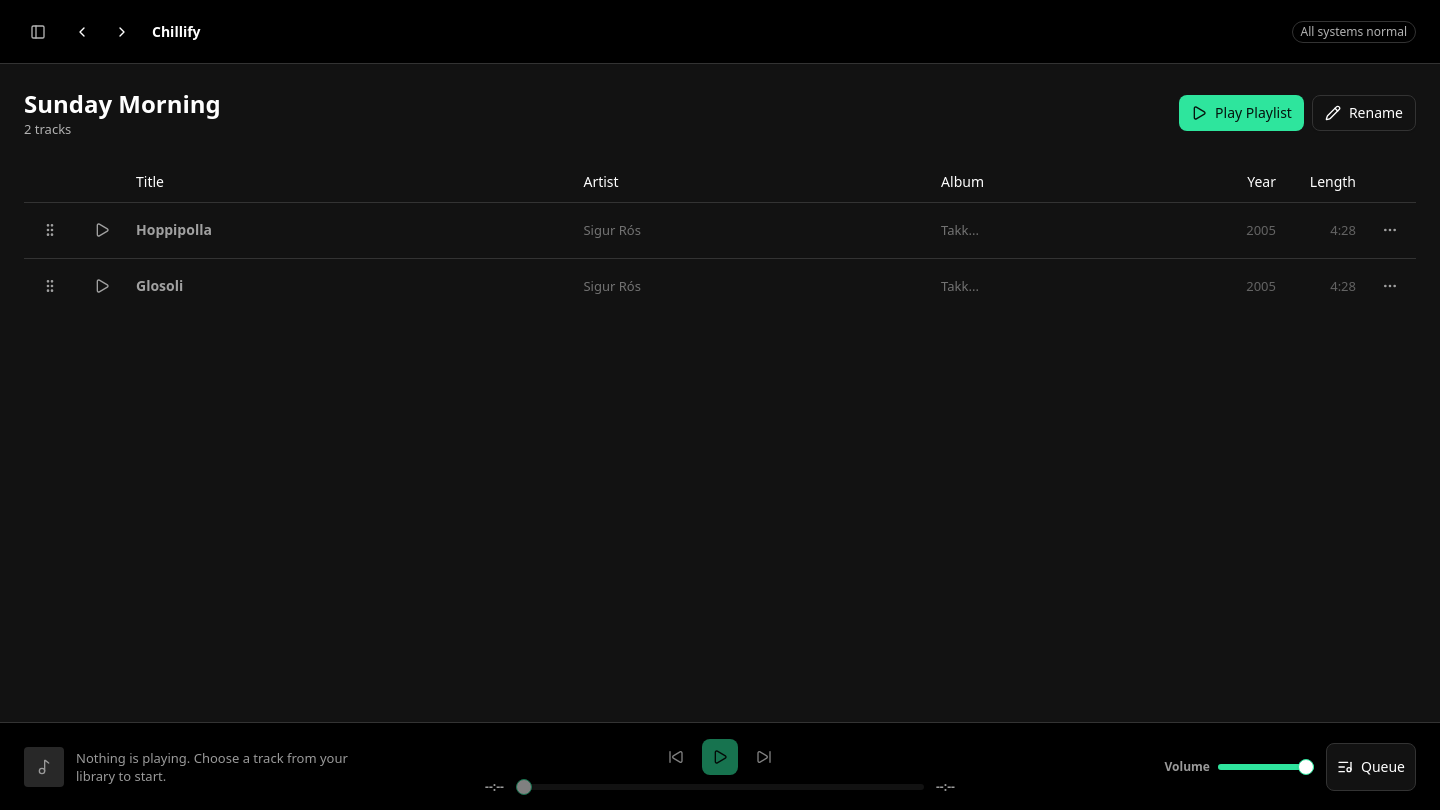
Test case: S10 playlist detail › removes a track under the playlist's revision without deleting the track
This screenshot has width=1440, height=810.
Click the button named "Actions for Glosoli" at (1390, 286), box [1372,268,1408,304]
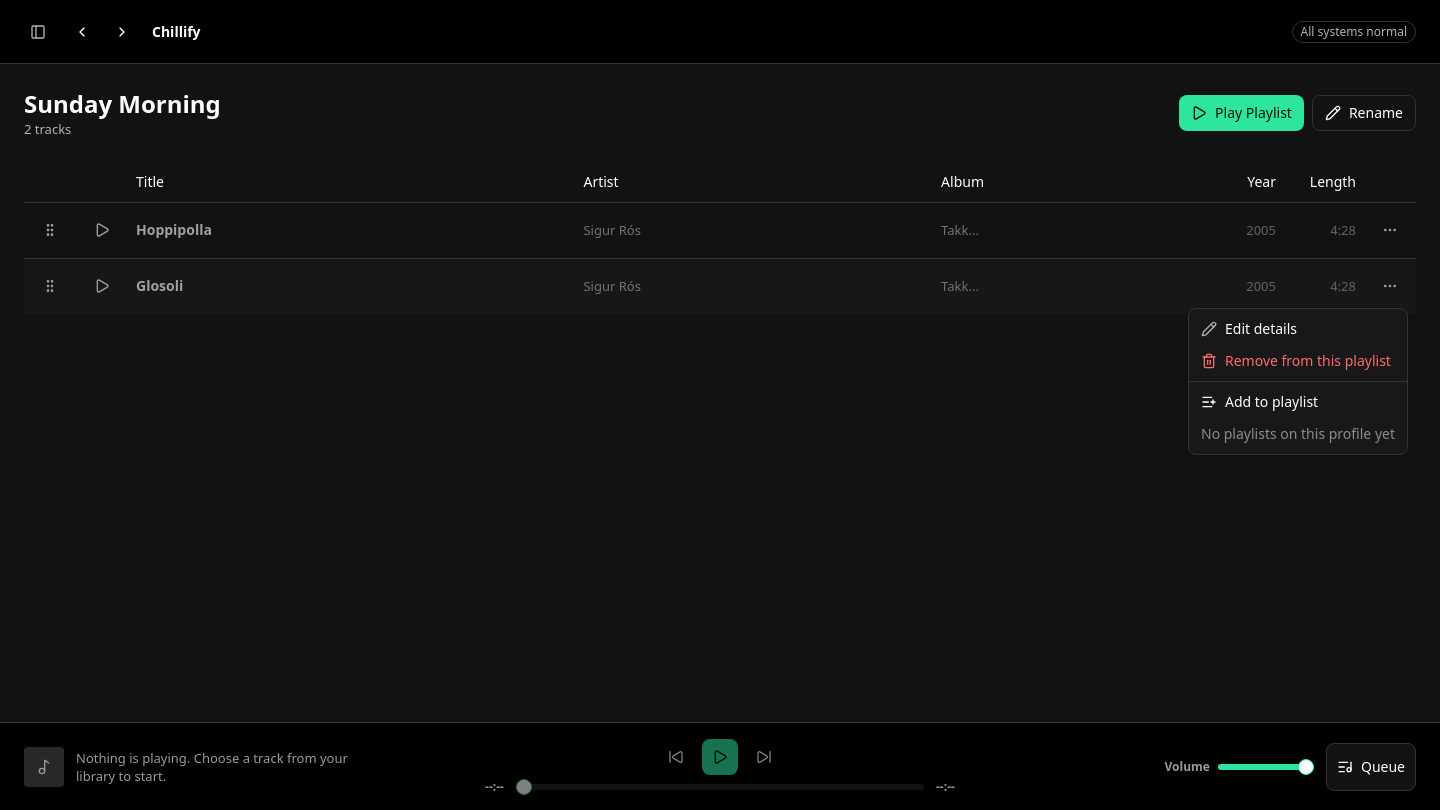
Click the menu item "Remove from this playlist" at (1296, 360), box [1201,351,1391,370]
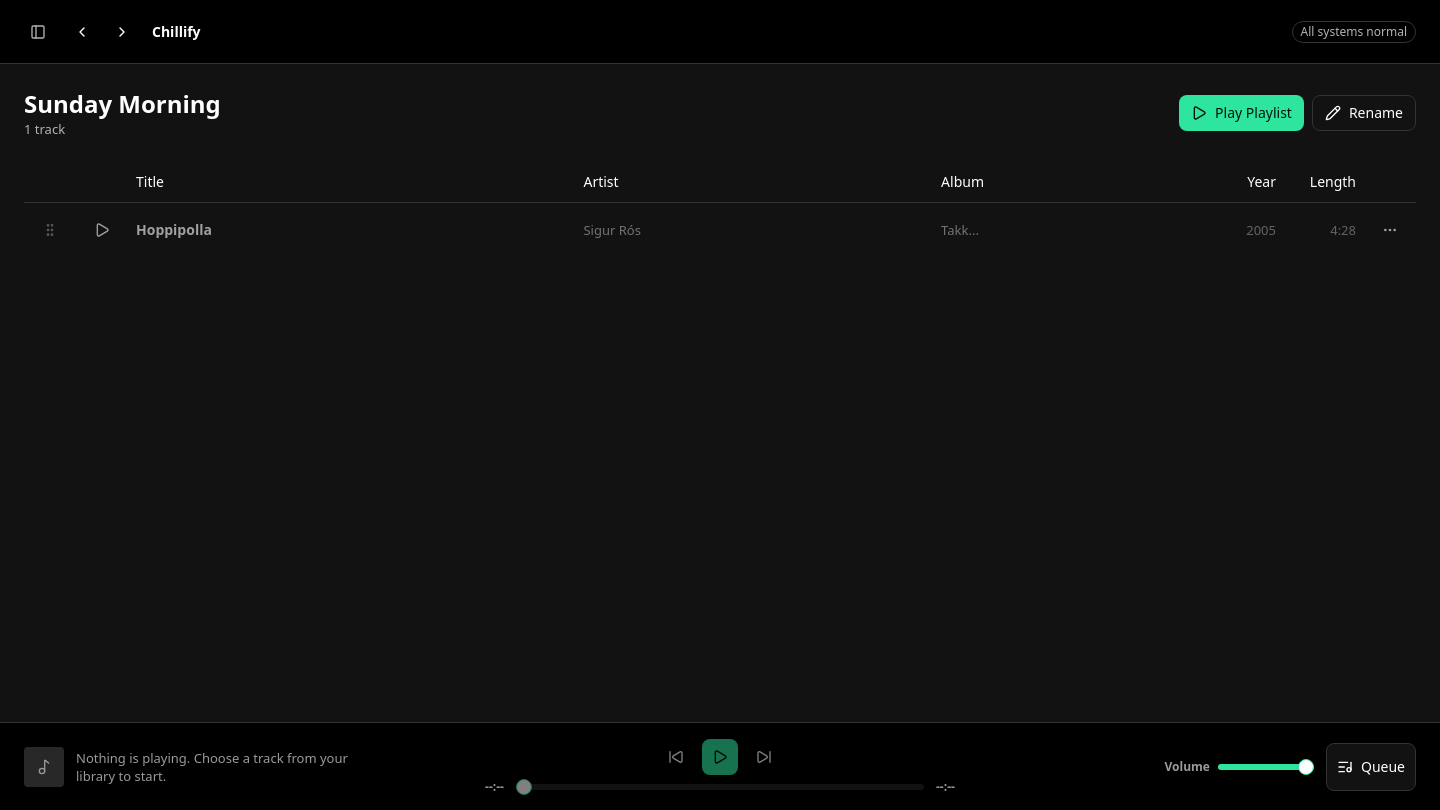
Check: the text "Hoppipolla" is shown, box [136,220,212,239]
Check: the text "Glosoli" is gone
